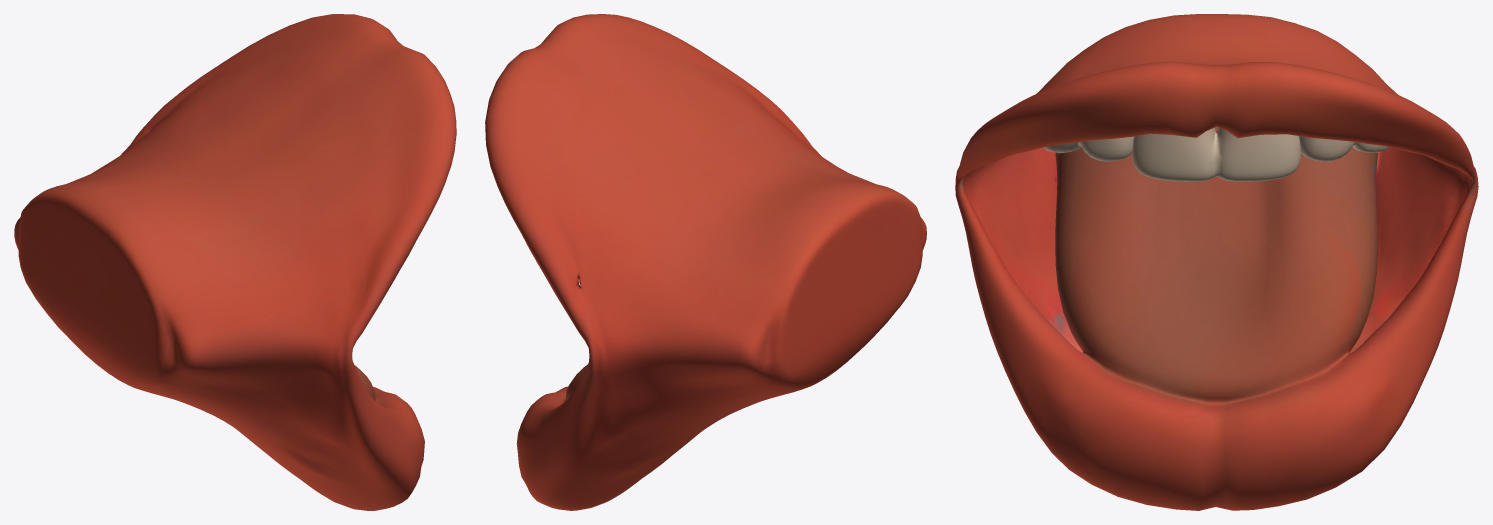
The model's file is realistic-open-mouth-10k.glb.
3 views of the same model, side by side, from view 1: azimuth 30°, elevation 25°; view 2: azimuth 150°, elevation 25°; view 3: azimuth 270°, elevation 25° (orthographic). The views are drawn at different scales.
Parts seen in each view (by area): view 1: Retopo_neural_node_aee24215-7516-40c6-9635-2fbc59adf8c4; view 2: Retopo_neural_node_aee24215-7516-40c6-9635-2fbc59adf8c4; view 3: Retopo_neural_node_aee24215-7516-40c6-9635-2fbc59adf8c4.
Part boxes in pixels (left/top/right/bottom): Retopo_neural_node_aee24215-7516-40c6-9635-2fbc59adf8c4: left=14, top=14, right=456, bottom=510; Retopo_neural_node_aee24215-7516-40c6-9635-2fbc59adf8c4: left=485, top=14, right=926, bottom=510; Retopo_neural_node_aee24215-7516-40c6-9635-2fbc59adf8c4: left=955, top=14, right=1478, bottom=510.
Size of the model in its own units: 0.7338 by 0.9483 by 0.9448.
1 material, 1 textured.
